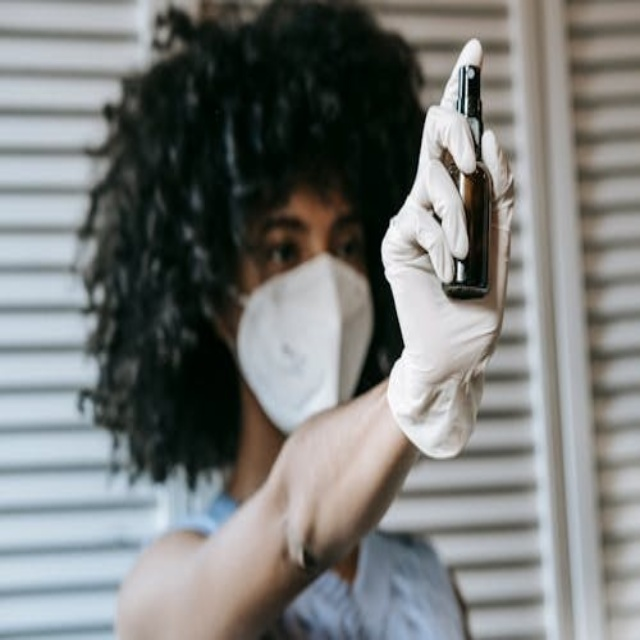Guantes: (378, 39, 514, 457)
Mascara: (230, 250, 374, 435)
Sin_gafas: (259, 215, 362, 269)
